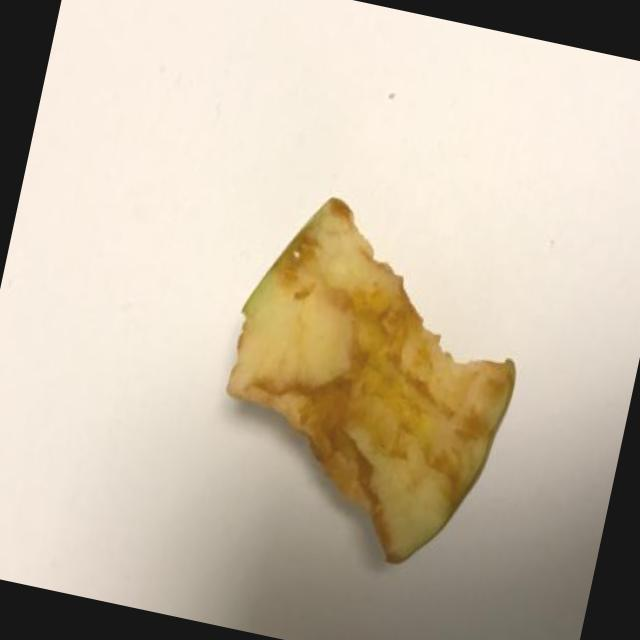thuc_an_thua: (224, 197, 515, 564)
